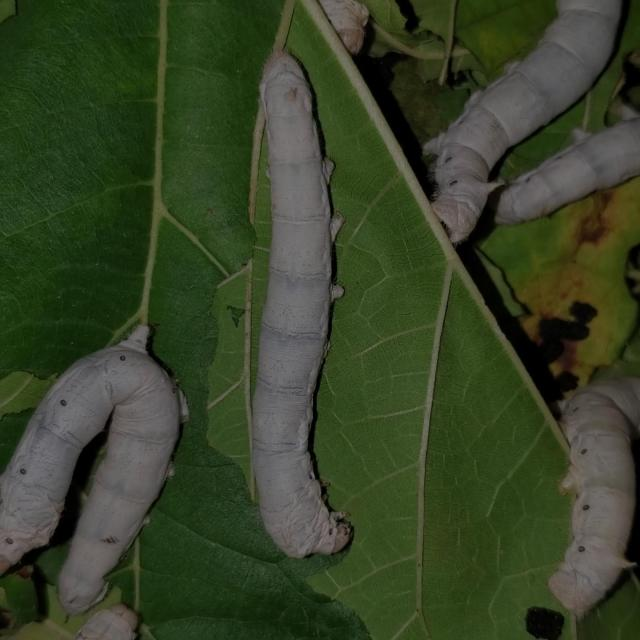Healthy: (216, 49, 374, 564)
